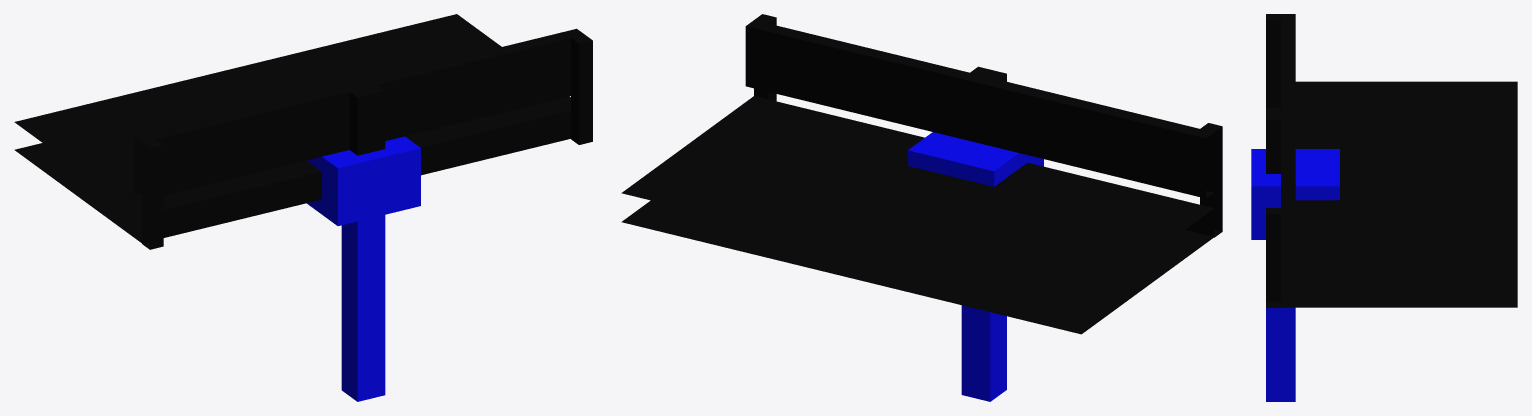
File: BigStrut_P_E_E_E_P_E_E_E_None.fbx
3 renders of one model, left to right at view 1: azimuth 30°, elevation 25°; view 2: azimuth 150°, elevation 25°; view 3: azimuth 270°, elevation 25°, orthographic. The views are drawn at different scales.
Visible parts, largest first — view 1: BigStrut_P_E_E_E_P_E_E_E_None; view 2: BigStrut_P_E_E_E_P_E_E_E_None; view 3: BigStrut_P_E_E_E_P_E_E_E_None.
Part boxes in pixels (left/top/right/bottom): BigStrut_P_E_E_E_P_E_E_E_None: left=14, top=14, right=592, bottom=401; BigStrut_P_E_E_E_P_E_E_E_None: left=621, top=14, right=1222, bottom=401; BigStrut_P_E_E_E_P_E_E_E_None: left=1251, top=14, right=1517, bottom=401.
Bounding box in the file's own units: 100 × 65.62 × 56.25.
